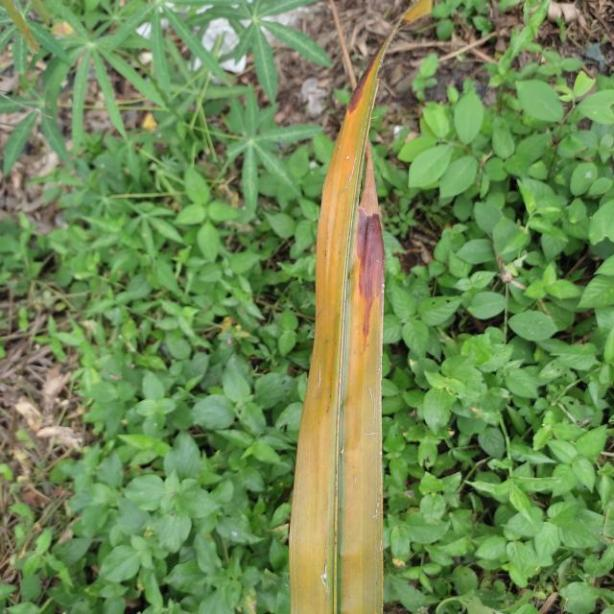Megnesium: (286, 7, 403, 614)
